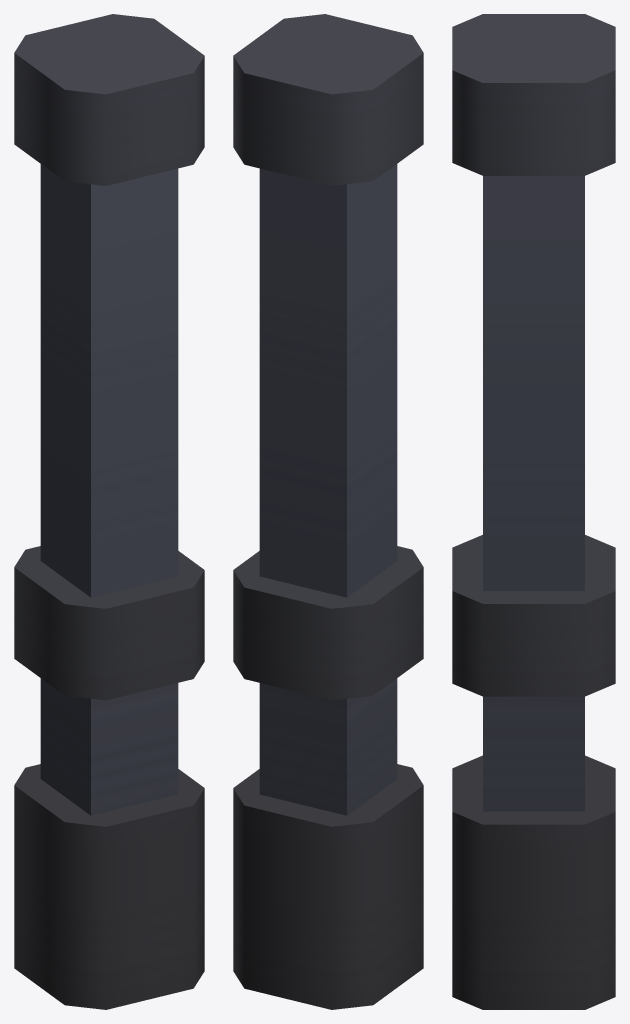
File: pillar-stone.glb
3 renders of one model, left to right at view 1: azimuth 30°, elevation 25°; view 2: azimuth 150°, elevation 25°; view 3: azimuth 270°, elevation 25°, orthographic.
Visible parts, largest first — view 1: pillar-stone; view 2: pillar-stone; view 3: pillar-stone.
Part boxes in pixels (x1,y1,x2,y2): pillar-stone: (14, 14, 204, 1009); pillar-stone: (233, 14, 423, 1009); pillar-stone: (452, 14, 615, 1009).
Size of the model in its own units: 0.16 by 1 by 0.16.
Materials: 1 (1 with a texture image).
